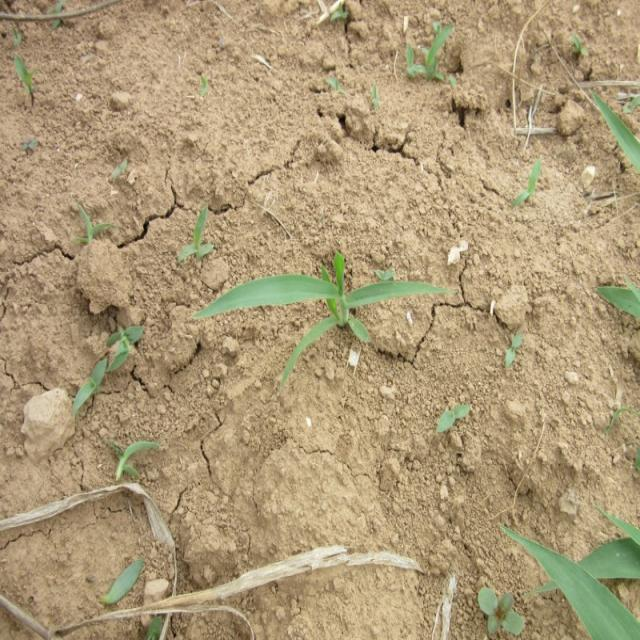bg: (198, 244, 458, 368)
